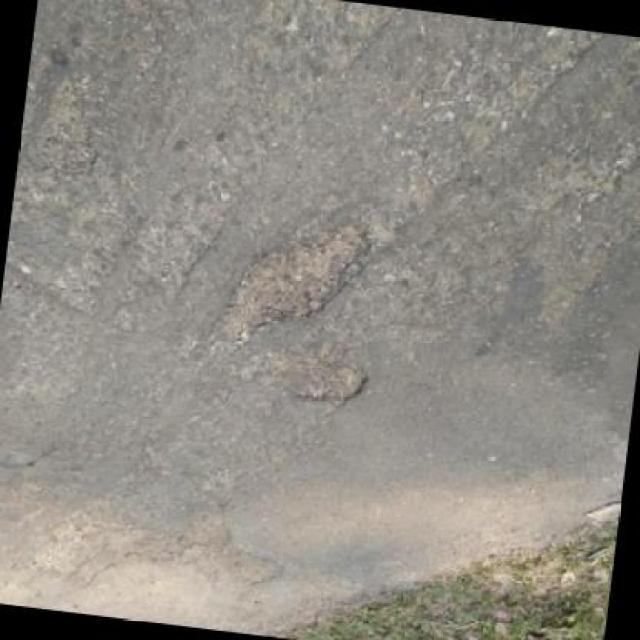pothole1: (205, 210, 368, 362), (26, 74, 109, 178), (290, 354, 372, 411)
